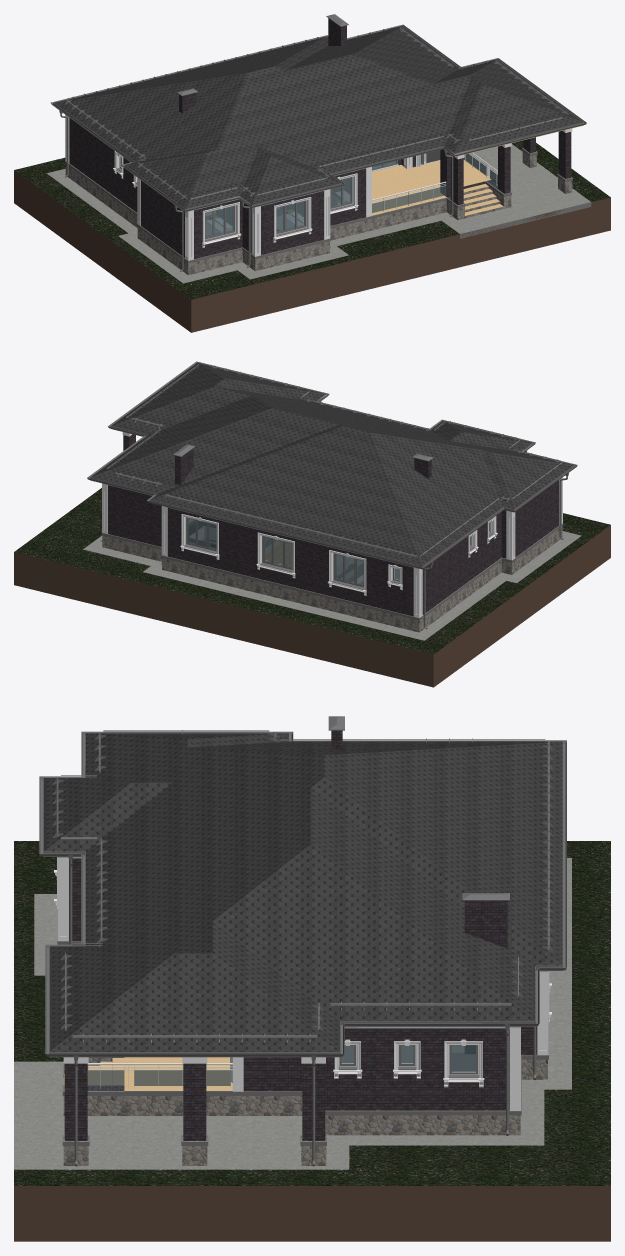
The model's file is house-234-5.glb.
The picture shows the model from 3 angles, top to bottom: view 1: azimuth 30°, elevation 25°; view 2: azimuth 150°, elevation 25°; view 3: azimuth 270°, elevation 25°; orthographic projection. The views are drawn at different scales.
Parts seen in each view (by area): view 1: roof-0, base-0, walls-0, walls-1, walls-4, walls-2, walls-3, walls-5; view 2: roof-0, base-0, walls-2, walls-0, walls-4, walls-1, walls-3; view 3: roof-0, base-0, walls-4, walls-5, walls-2.
Boxes of the visible parts, x1,y1,x2,y2 form: roof-0: (50, 24, 586, 211); base-0: (14, 140, 610, 332); walls-0: (59, 110, 245, 267); walls-1: (177, 88, 322, 263); walls-4: (326, 14, 511, 205); walls-2: (69, 118, 371, 239); walls-3: (372, 149, 453, 212); walls-5: (523, 128, 572, 178); roof-0: (87, 361, 577, 569); base-0: (14, 488, 610, 687); walls-2: (102, 483, 422, 616); walls-0: (387, 450, 568, 624); walls-4: (102, 444, 195, 556); walls-1: (327, 453, 433, 595); walls-3: (180, 401, 321, 559); roof-0: (39, 730, 566, 1057); base-0: (14, 841, 610, 1241); walls-4: (87, 893, 548, 1110); walls-5: (63, 1024, 509, 1158); walls-2: (57, 855, 548, 1054).
Size of the model in its own units: 27.04 by 9.63 by 19.78.
40 materials, 11 textured.
